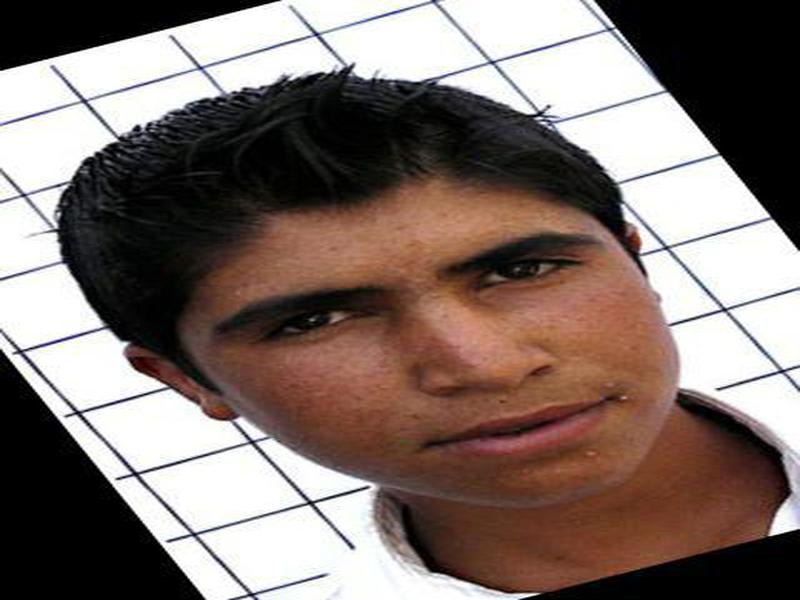without_mask: (138, 172, 682, 504)
